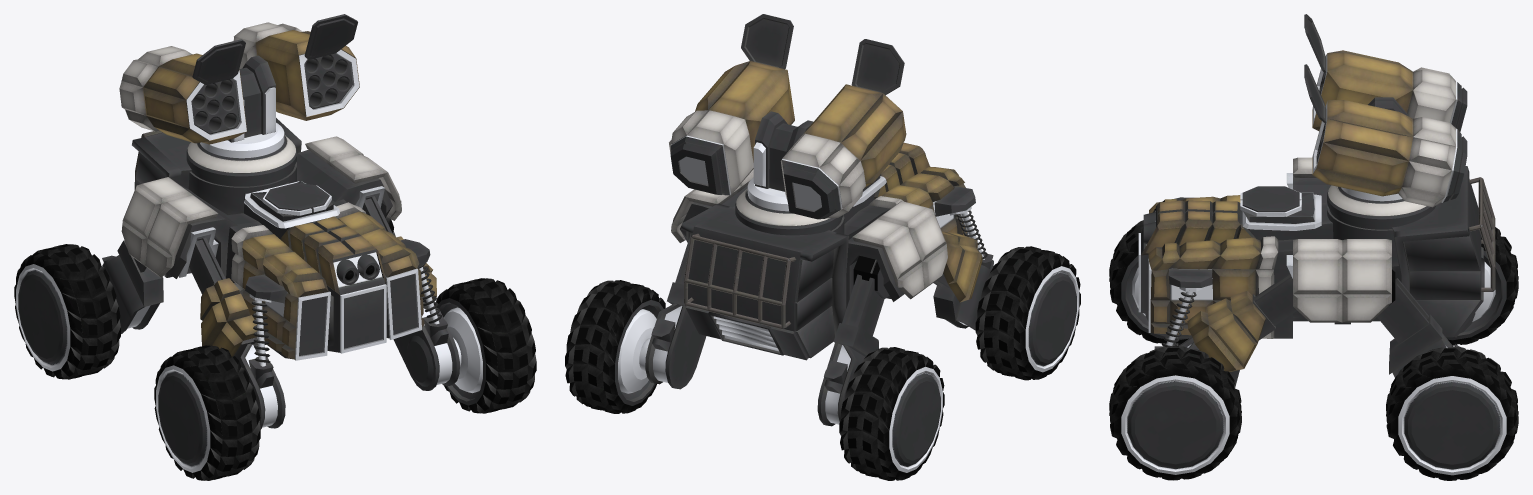
Rendered from barrager.glb.
3 renders of one model, left to right at view 1: azimuth 30°, elevation 25°; view 2: azimuth 150°, elevation 25°; view 3: azimuth 270°, elevation 25°, orthographic.
Visible parts, largest first — view 1: Barrager_Baked; view 2: Barrager_Baked; view 3: Barrager_Baked.
Boxes of the visible parts, box(x1,y1,x2,y2) form: Barrager_Baked: box(14, 14, 536, 480); Barrager_Baked: box(565, 14, 1080, 480); Barrager_Baked: box(1109, 14, 1518, 480).
Bounding box in the file's own units: 2.53 × 2.63 × 2.7.
1 material, 1 textured.
